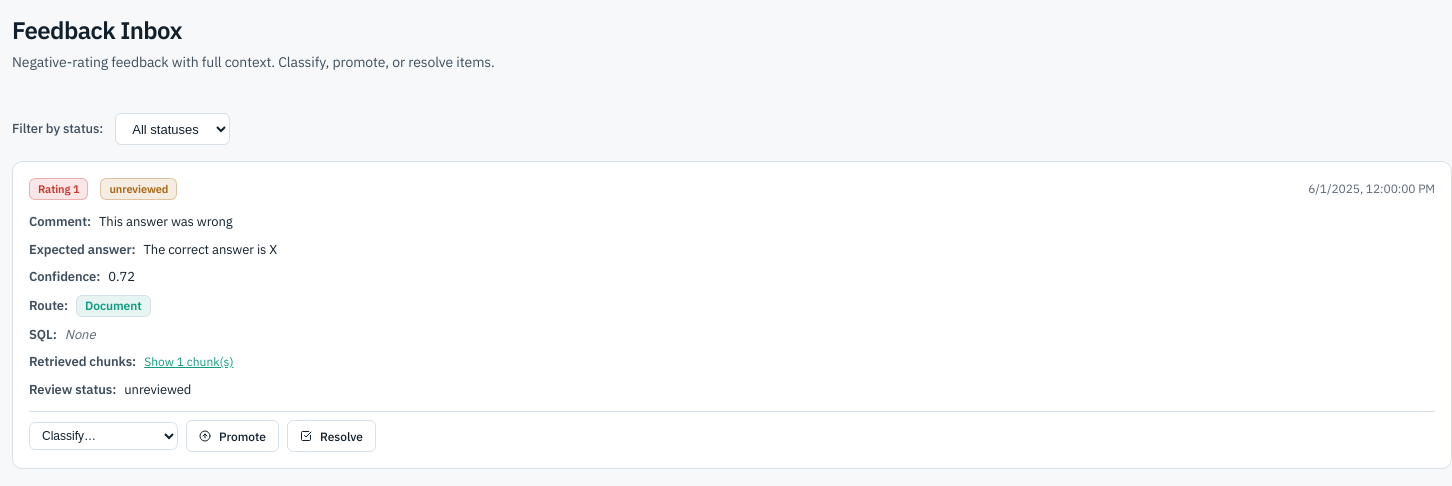
FeedbackInboxPage › filters by review_status
Expected: the text "Rating 1" is shown, [29, 178, 88, 200]
// Select "Resolved" filter
Select "Resolved" in the dropdown named "Filter by review status" at [173, 129], box [115, 113, 230, 145]
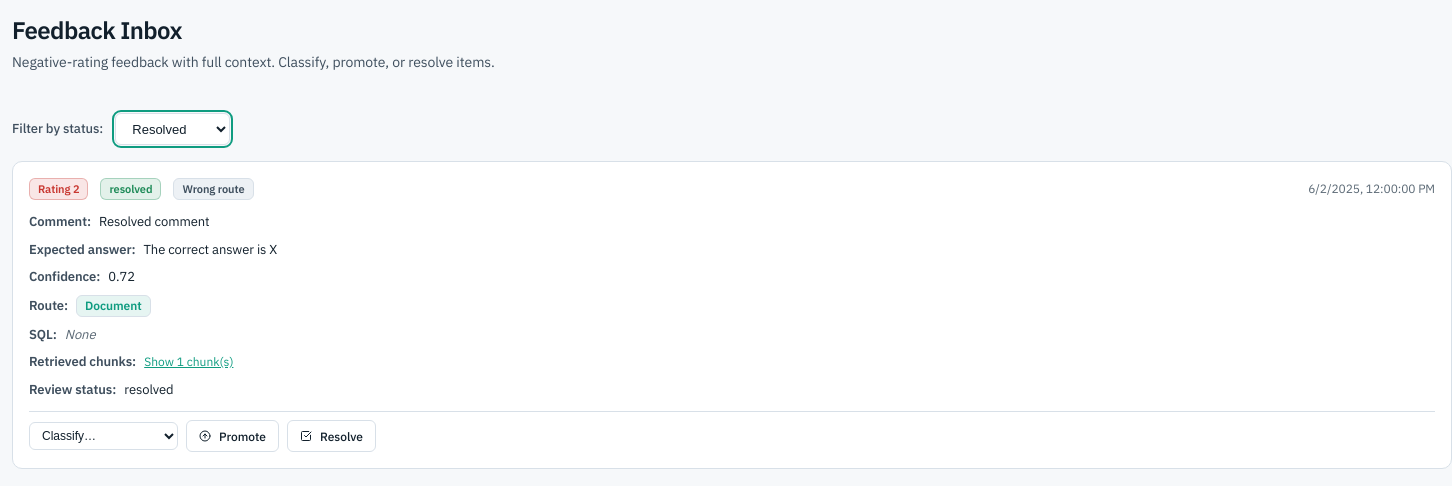
Now the text "Resolved comment" is shown, box [99, 213, 210, 230]
Now the text "resolved" next to "Wrong route" is shown, box [109, 182, 152, 196]
